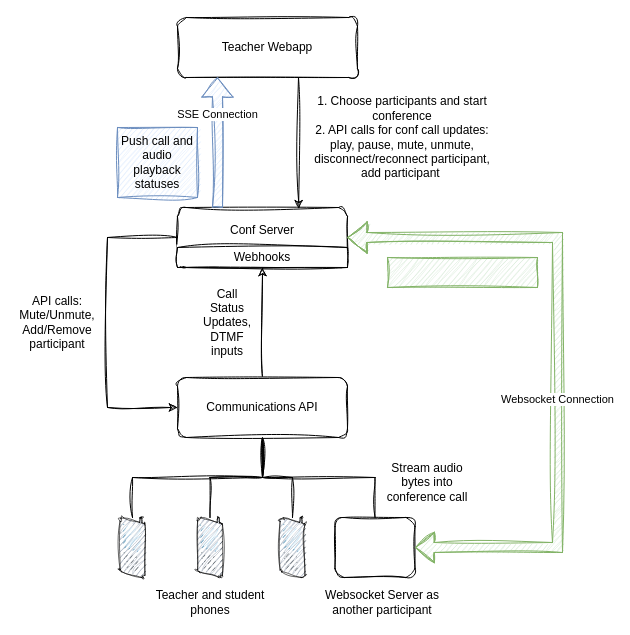
Some shapes in this 630 by 635 pixel diagram are drawn without their labels. Here are the shapes that lost their labels. From the top down, the centre of each, then its label:
At point (462, 272): "Audio Playback updates: Play, Pause, Resume".
At point (374, 547): "Websocket Server".
